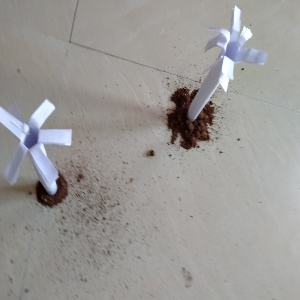weed: (189, 6, 254, 123), (1, 87, 65, 197)
